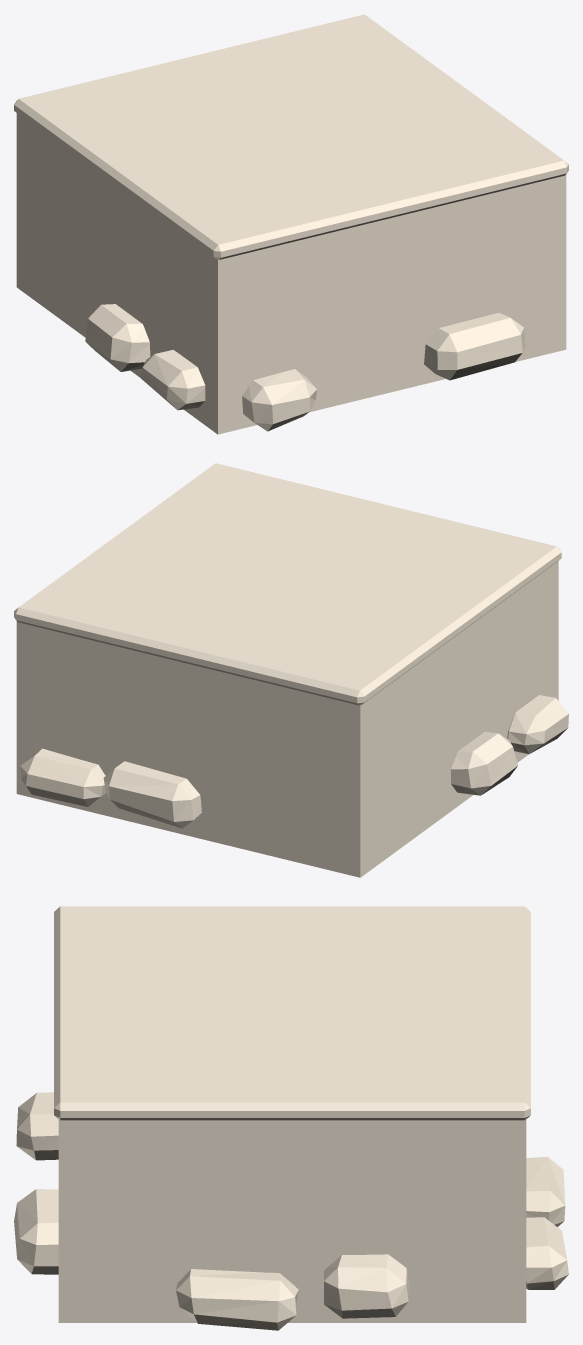
The model's file is SM_VK_Def_Standin_Plateau.fbx.
3 renders of one model, top to bottom at view 1: azimuth 30°, elevation 25°; view 2: azimuth 150°, elevation 25°; view 3: azimuth 270°, elevation 25°, orthographic. The views are drawn at different scales.
Visible parts, largest first — view 1: SM_VK_Def_Standin_Plateau.001; view 2: SM_VK_Def_Standin_Plateau.001; view 3: SM_VK_Def_Standin_Plateau.001.
Boxes of the visible parts, x1,y1,x2,y2 form: SM_VK_Def_Standin_Plateau.001: (14,14,568,434); SM_VK_Def_Standin_Plateau.001: (14,463,568,877); SM_VK_Def_Standin_Plateau.001: (14,906,568,1330).
Size of the model in its own units: 3.59 by 1.55 by 3.56.
